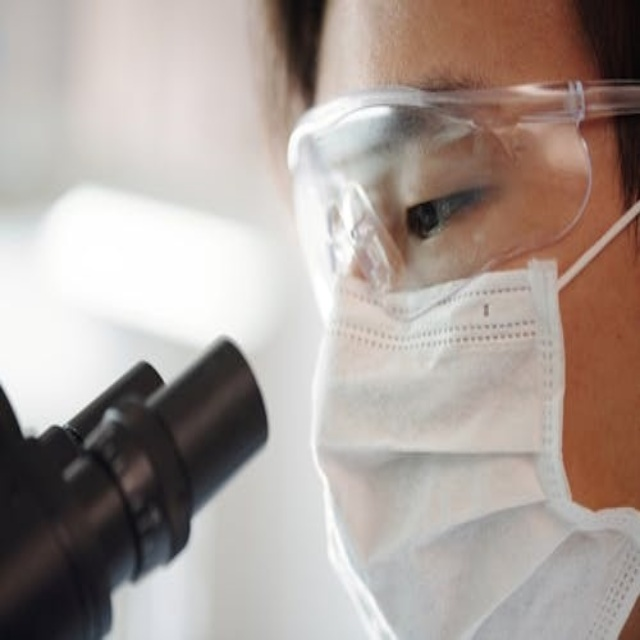Gafas: (282, 78, 640, 313)
Mascara: (306, 197, 640, 640)
